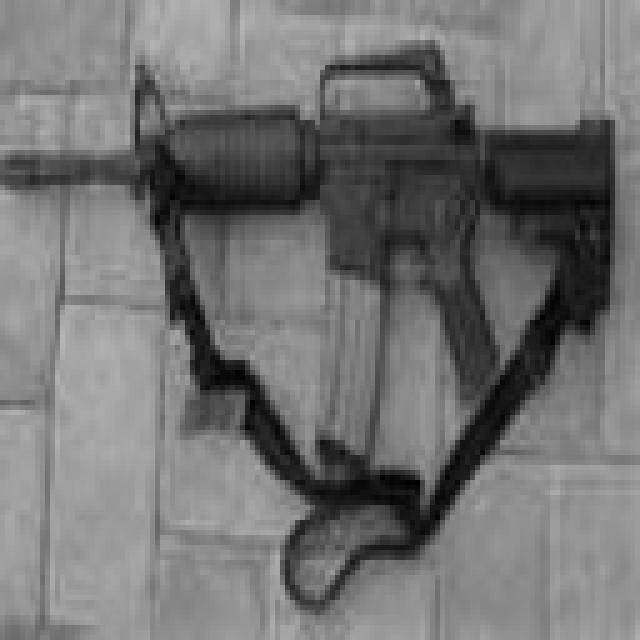Rifle: (0, 32, 640, 621), (109, 47, 133, 192)
